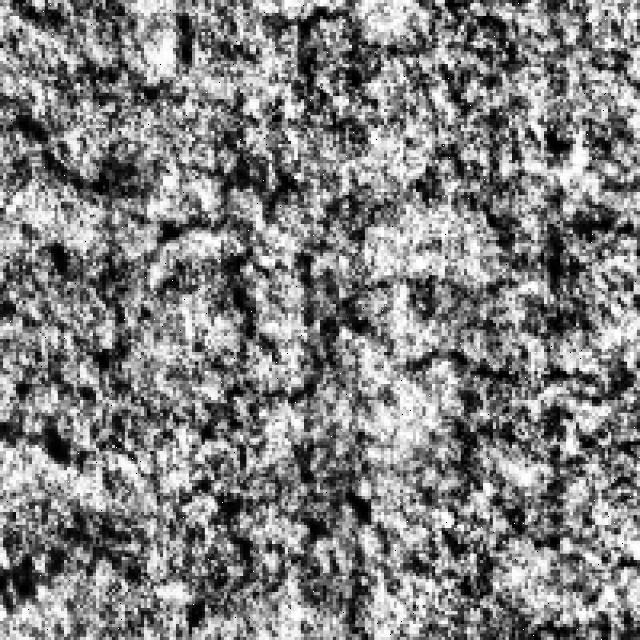Pitted_Surface: (103, 182, 330, 426), (342, 240, 640, 390)
